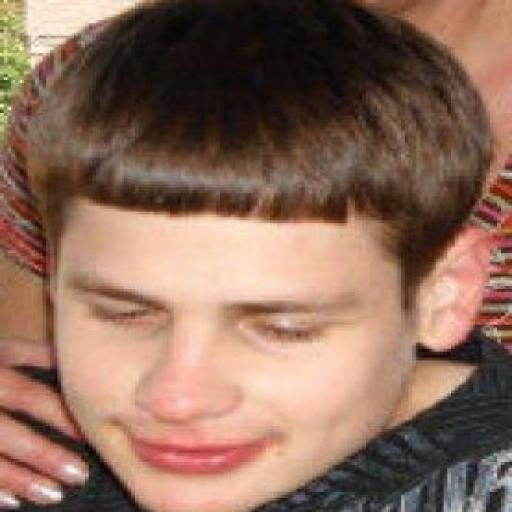Autism: (9, 13, 512, 509)
